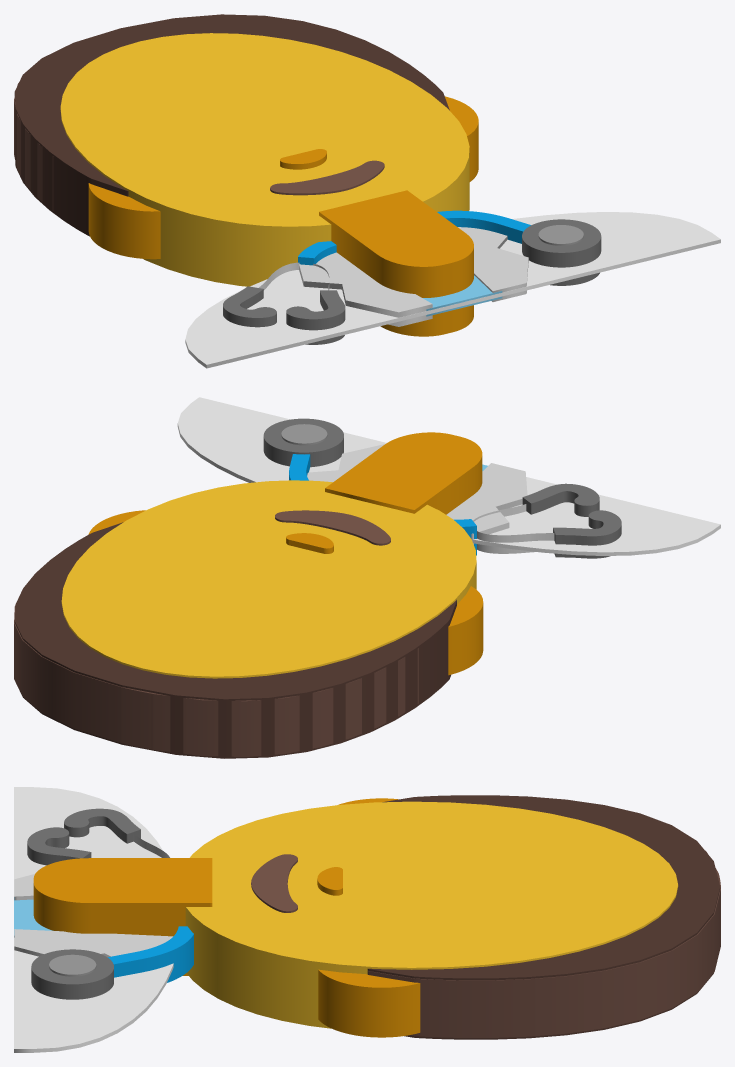
File: emoji_u1f468_200d_2695.glb
3 views of the same model, one above another, from view 1: azimuth 30°, elevation 25°; view 2: azimuth 150°, elevation 25°; view 3: azimuth 270°, elevation 25° (orthographic). The views are drawn at different scales.
Visible parts, largest first — view 1: emoji_u1f468_200d_2695; view 2: emoji_u1f468_200d_2695; view 3: emoji_u1f468_200d_2695.
Boxes of the visible parts, x1=… form: emoji_u1f468_200d_2695: x1=14, y1=14, x2=720, y2=368; emoji_u1f468_200d_2695: x1=14, y1=397, x2=720, y2=758; emoji_u1f468_200d_2695: x1=14, y1=787, x2=720, y2=1052.
Size of the model in its own units: 0.0293 by 0.004 by 0.0334.
